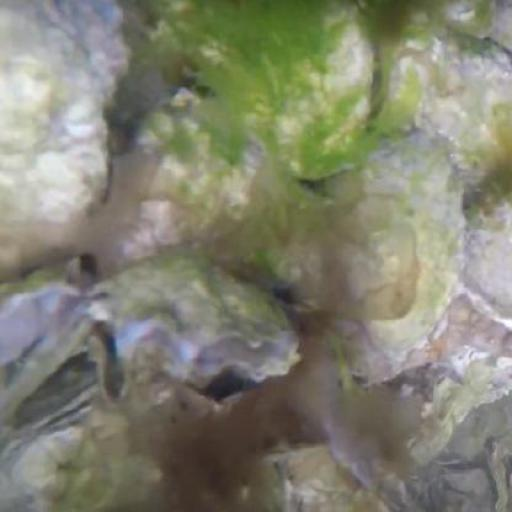Oyster-Closed: (1, 1, 132, 265), (329, 131, 472, 364), (275, 1, 373, 174), (297, 447, 390, 512)
Oyster-Open: (87, 259, 297, 390), (1, 325, 107, 440)
